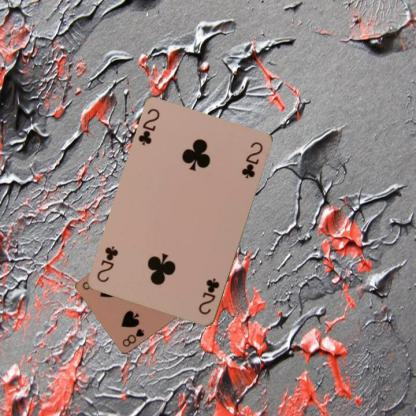2c: (136, 107, 161, 148), (196, 276, 221, 316)
8s: (119, 326, 146, 348)
